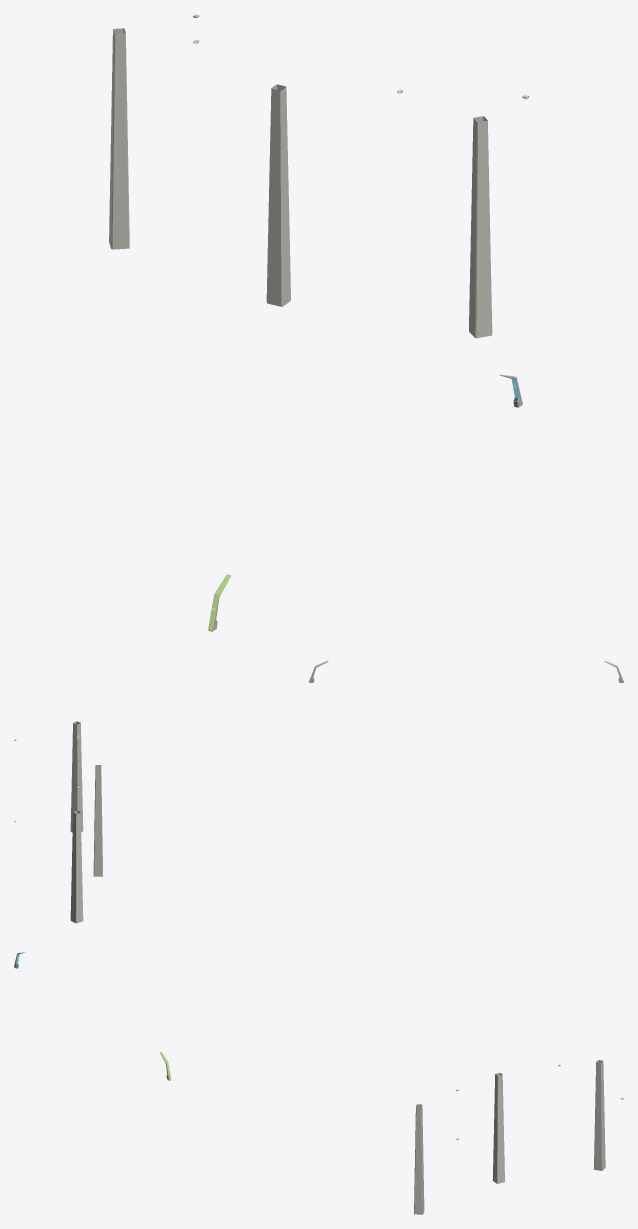
The model's file is pieraroadsvertical.glb.
The picture shows the model from 3 angles, top to bottom: view 1: azimuth 30°, elevation 25°; view 2: azimuth 150°, elevation 25°; view 3: azimuth 270°, elevation 25°; orthographic projection. The views are drawn at different scales.
Parts seen in each view (by area): view 1: cityblockassetkit; view 2: cityblockassetkit; view 3: cityblockassetkit.
Boxes of the visible parts, <box> form: cityblockassetkit: <box>109,14,528,631</box>; cityblockassetkit: <box>14,660,623,923</box>; cityblockassetkit: <box>14,952,623,1214</box>.
Bounding box in the file's own units: 99.97 × 28.17 × 139.
7 materials, 4 textured.
